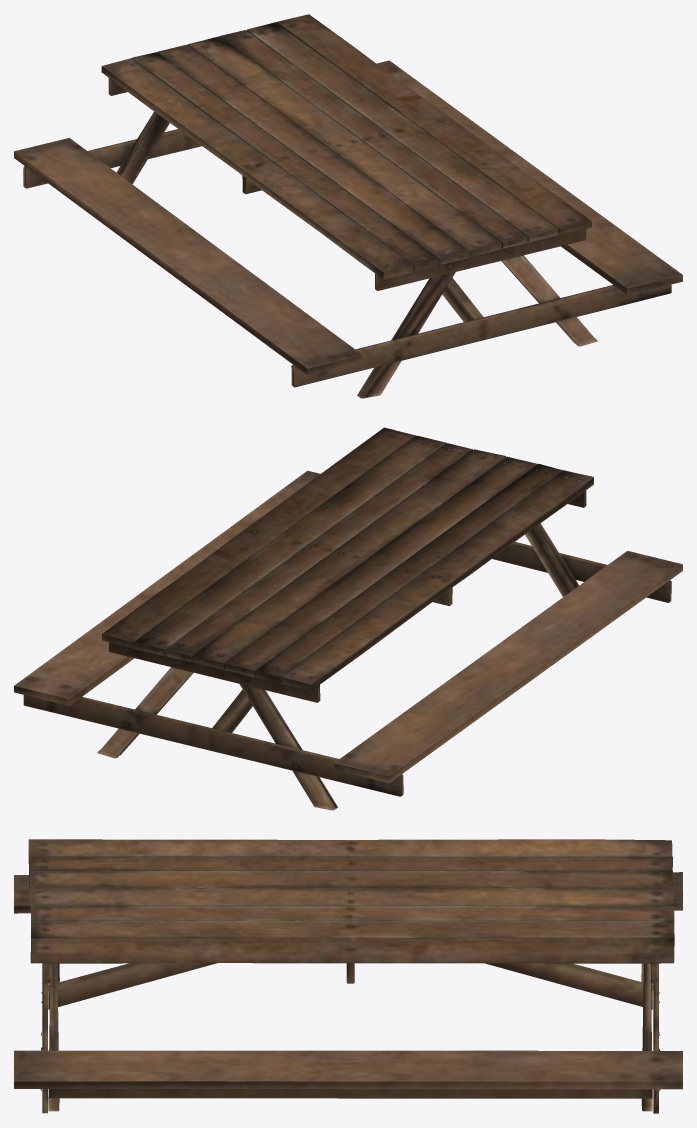
File: picnic-low.glb
3 renders of one model, top to bottom at view 1: azimuth 30°, elevation 25°; view 2: azimuth 150°, elevation 25°; view 3: azimuth 270°, elevation 25°, orthographic. The views are drawn at different scales.
Visible parts, largest first — view 1: wooden_picnic_table baked; view 2: wooden_picnic_table baked; view 3: wooden_picnic_table baked.
Part boxes in pixels (x1,y1,x2,y2): wooden_picnic_table baked: (14, 14, 682, 398); wooden_picnic_table baked: (14, 427, 682, 810); wooden_picnic_table baked: (14, 839, 682, 1113).
Bounding box in the file's own units: 2.24 × 0.746 × 3.02.
Materials: 2 (2 with a texture image).
